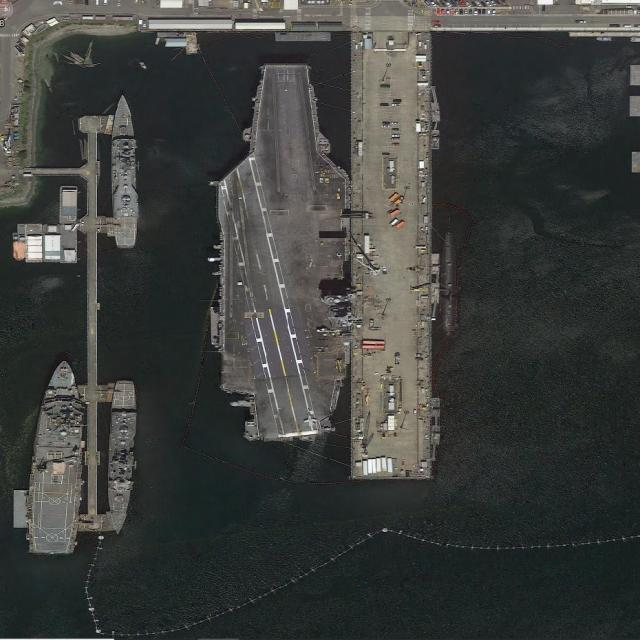Aircraft Carrier: (216, 63, 348, 438)
Dock: (352, 33, 434, 480), (87, 134, 97, 516)
Frigate: (107, 93, 140, 248), (106, 379, 138, 535)
Landing: (23, 358, 91, 557)
Submarine: (440, 232, 458, 340)
